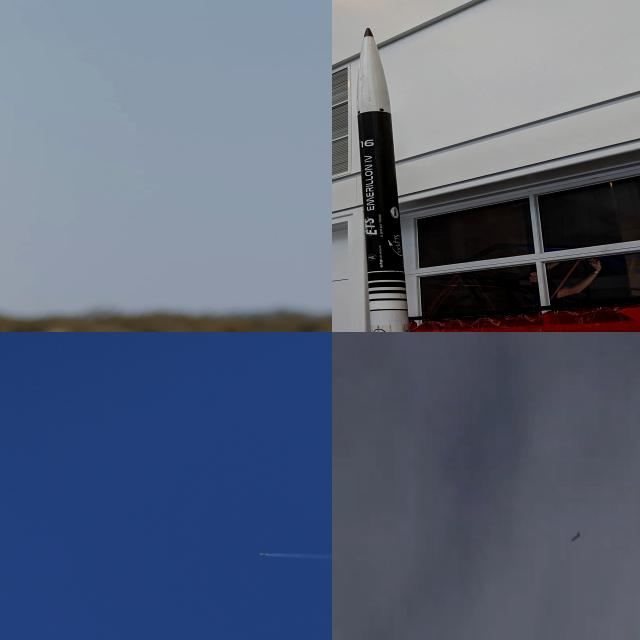Rocket: (356, 28, 410, 332), (571, 530, 581, 543), (259, 553, 267, 556)
